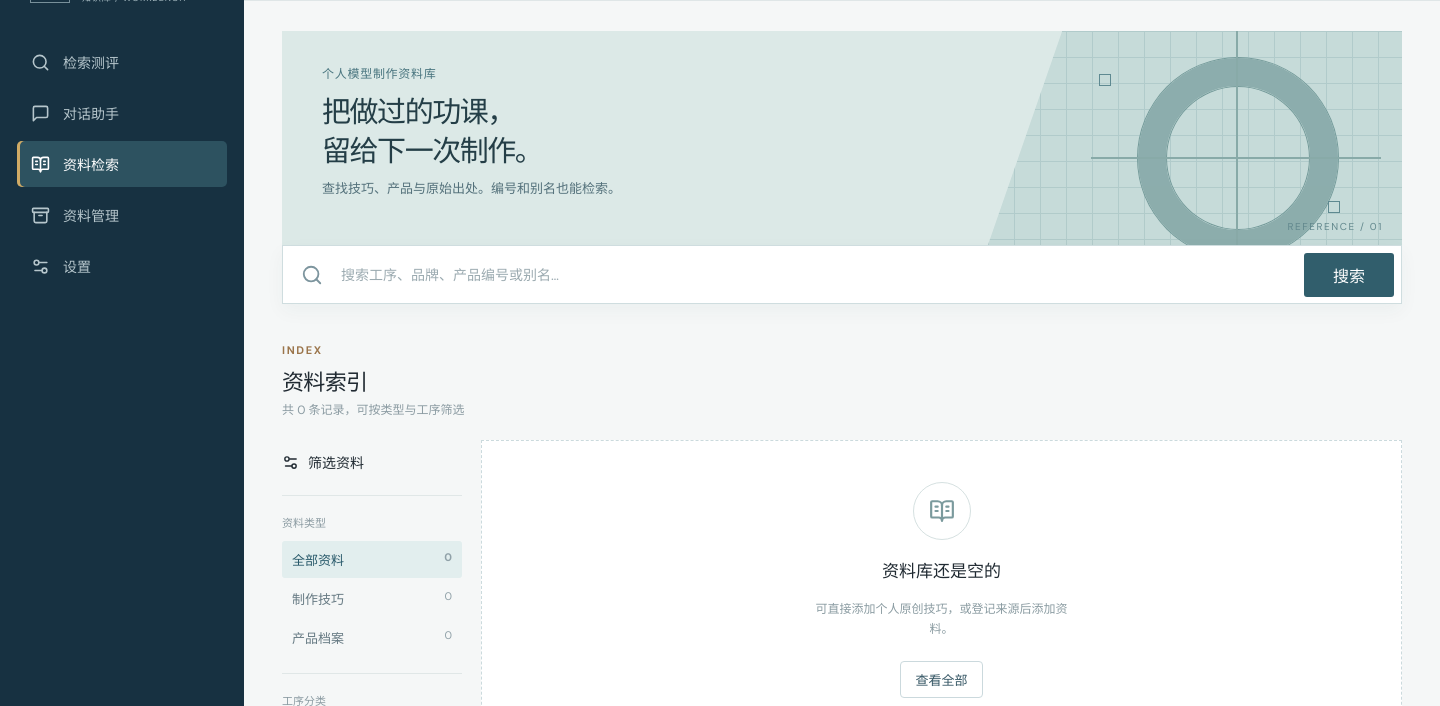
it: retries without duplicating the user question and steers with a new instruction
Click the button "对话助手" at (122, 113), box [17,90,227,136]
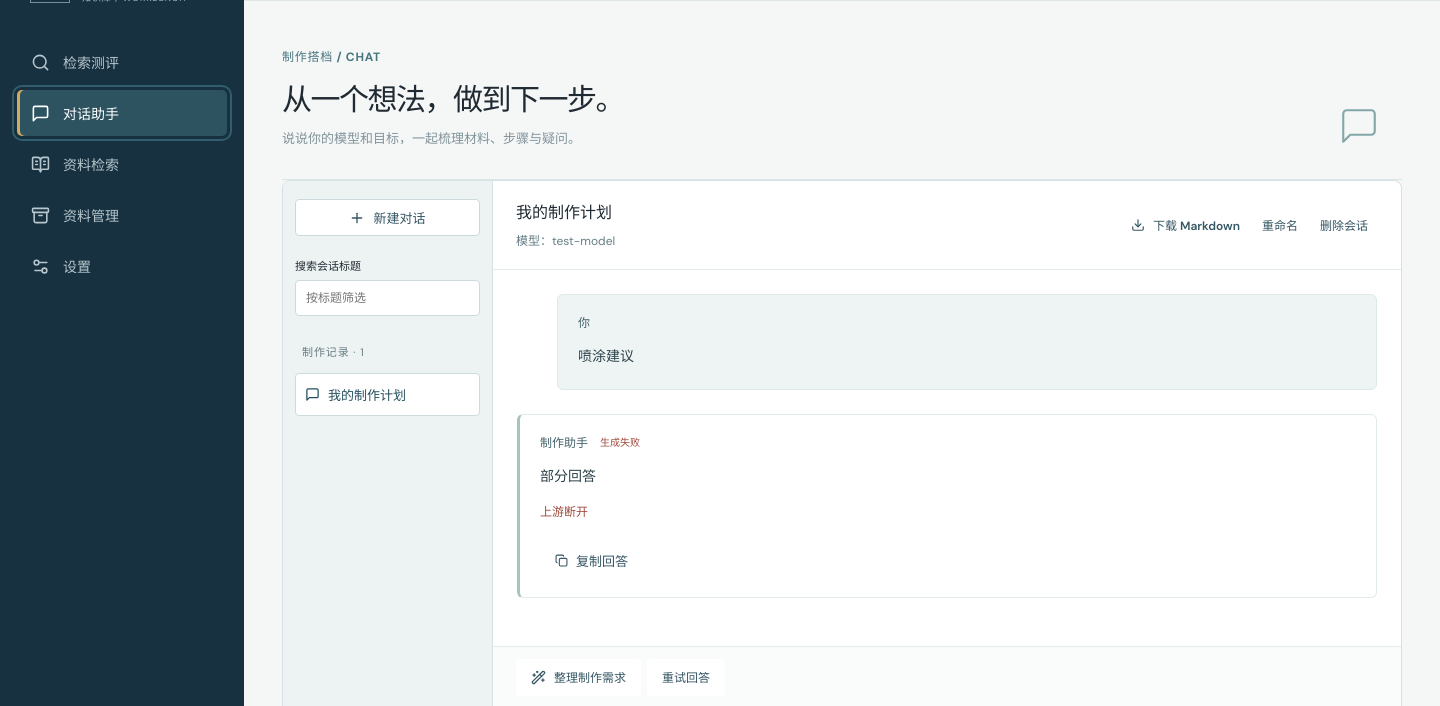
Result: the button "我的制作计划" is shown
Click the button "我的制作计划" at (388, 394), box [295,373,480,416]
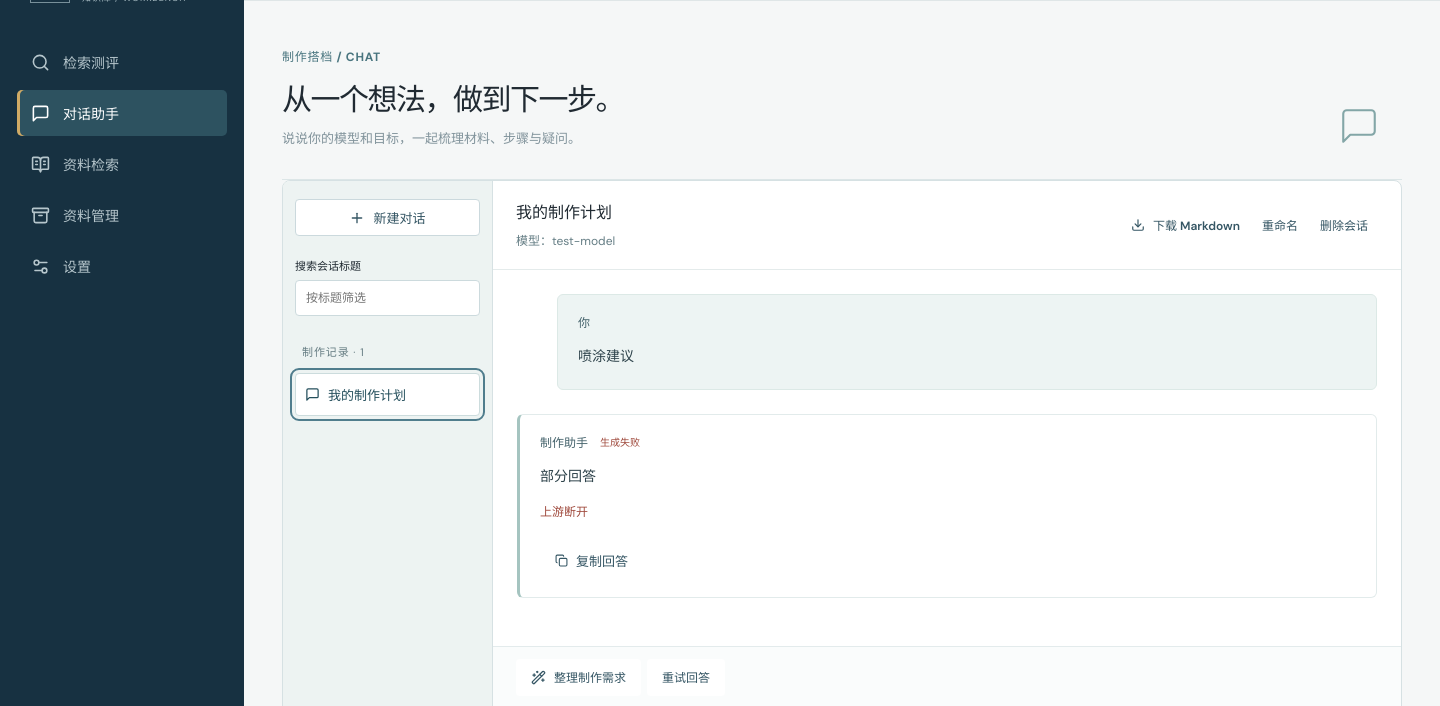
Click the button "重试回答" at (686, 678), box [647,659,725,696]
(page scrolled)
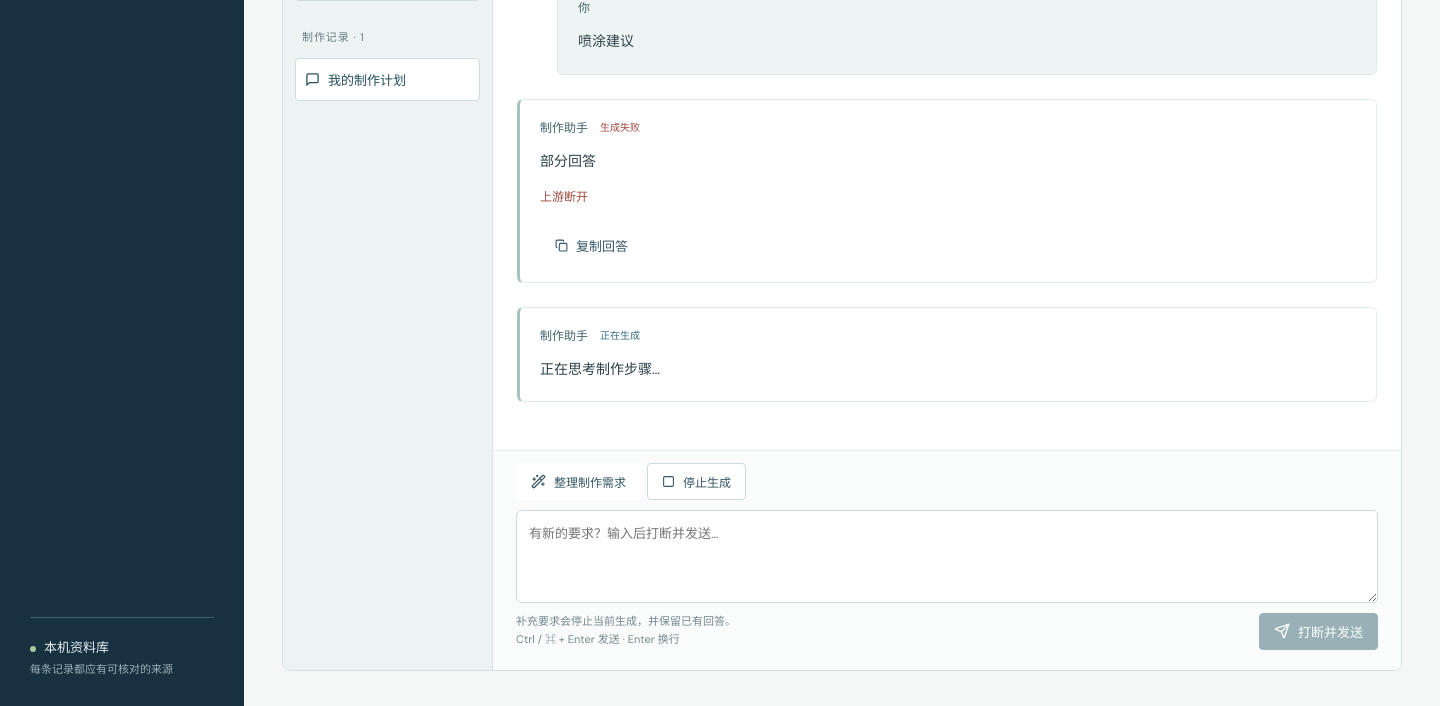
Result: the button "停止生成" is shown at [647,463,746,500]
Result: the text "喷涂建议" is shown once at [578,32,634,50]
Type "我只有水性漆" into the text box named "制作问题或补充要求" at (947, 556), box [516,510,1378,603]
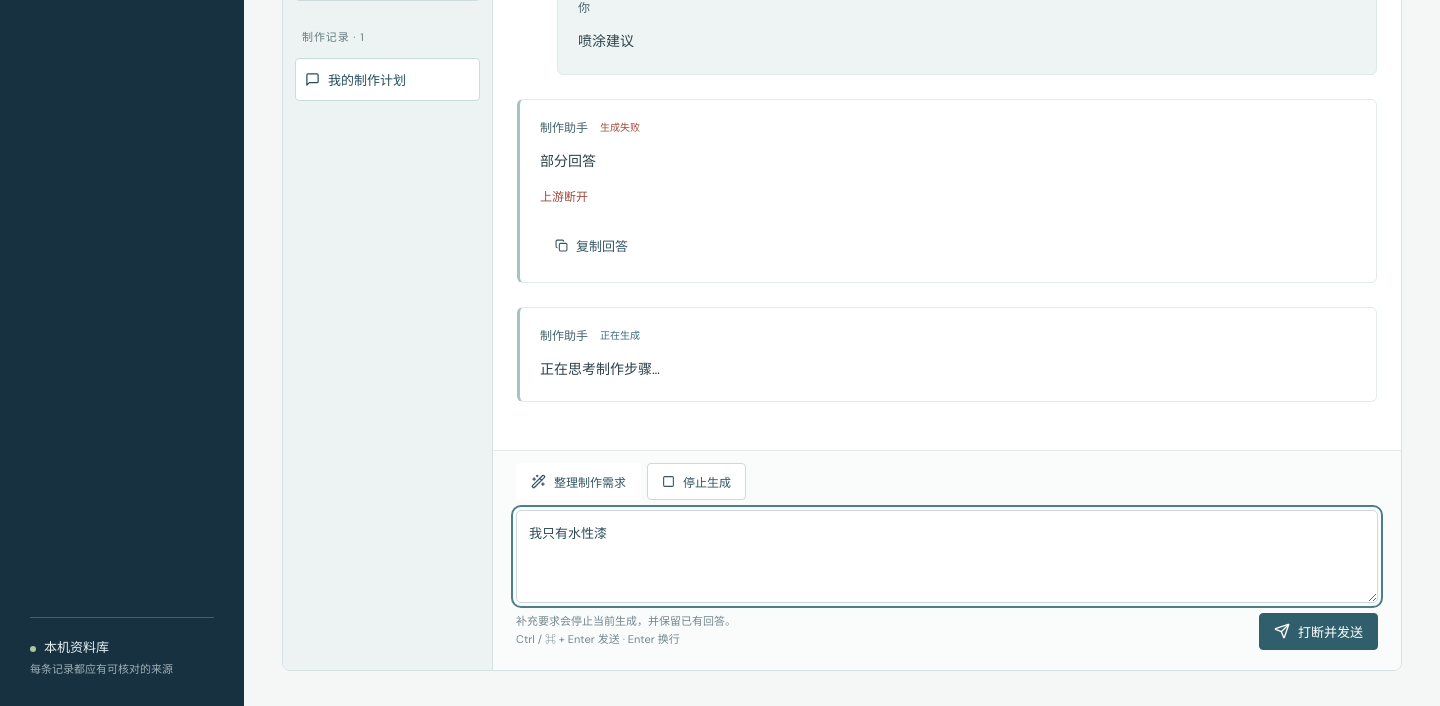
Click the button "打断并发送" at (1318, 631), box [1259,613,1378,650]
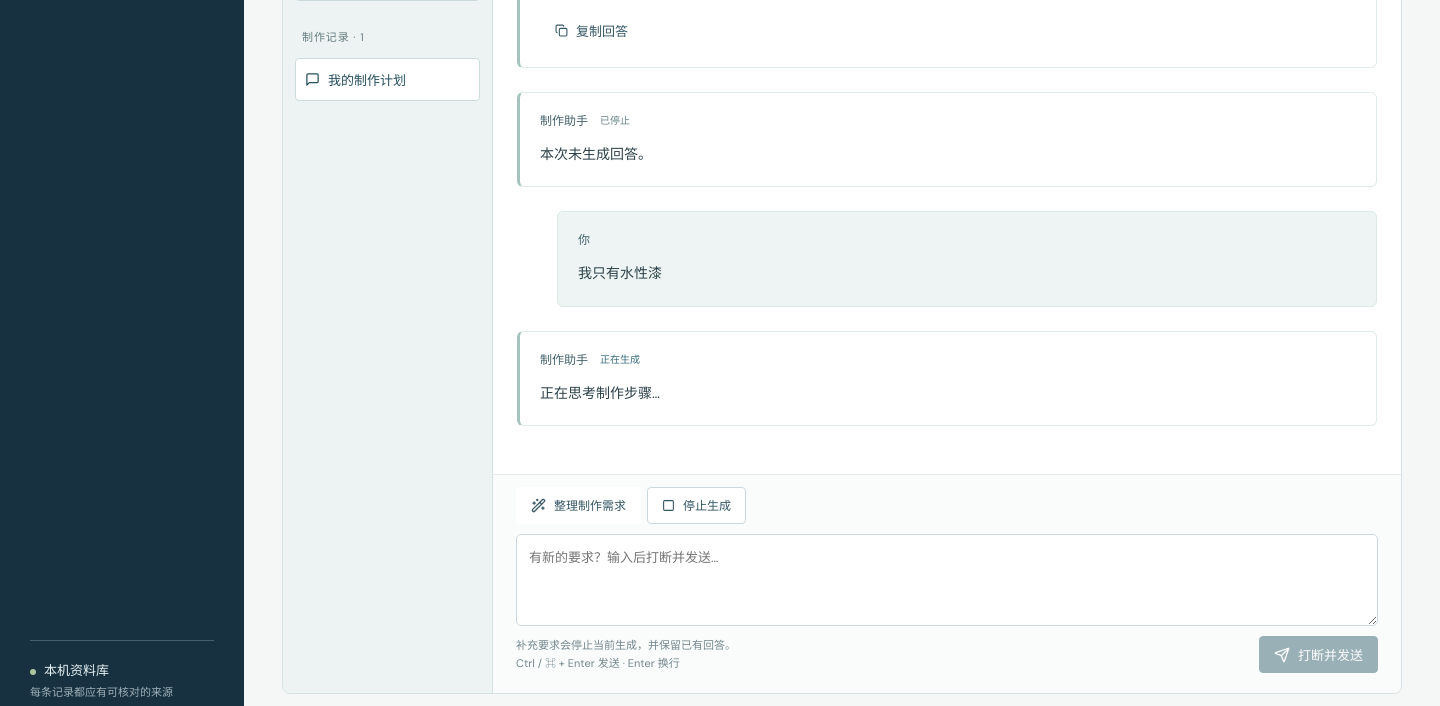
Result: the text "我只有水性漆" is shown at [578,264,662,282]
